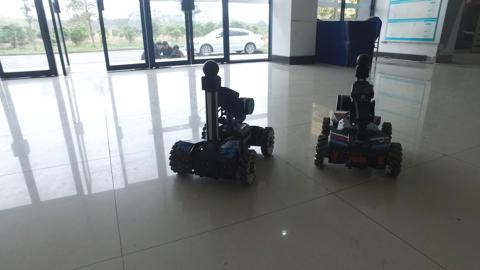car: (181, 20, 266, 60)
chariot: (163, 56, 284, 191), (308, 48, 416, 183)
